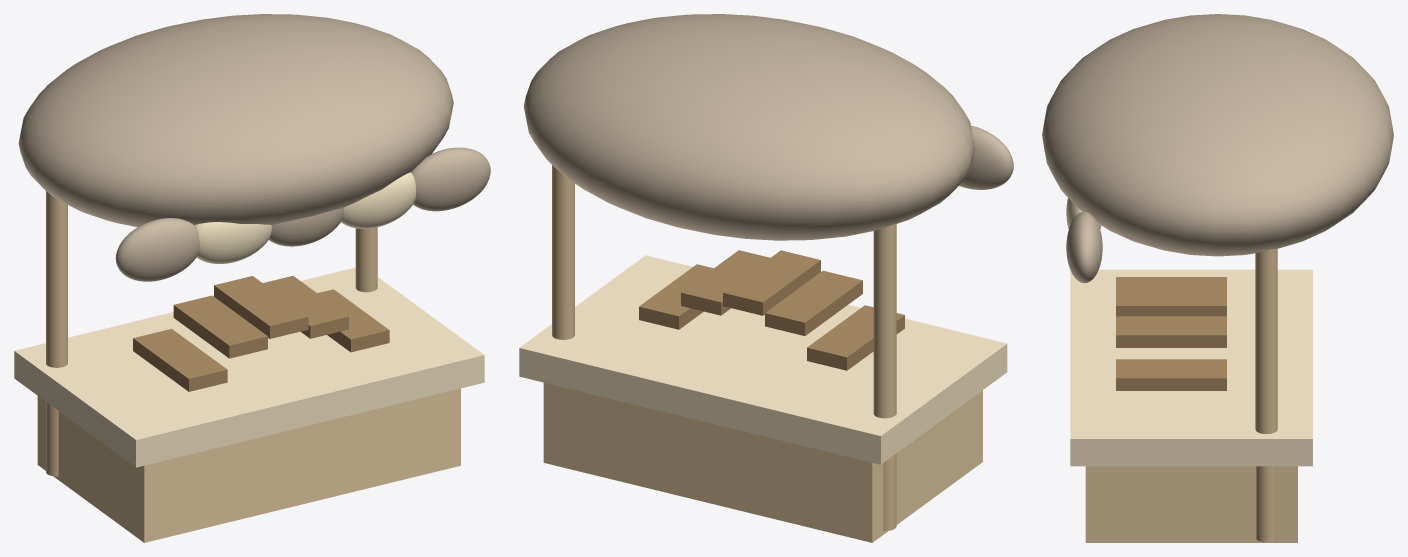
Rendered from fair-bridge-builder.glb.
3 views of the same model, side by side, from view 1: azimuth 30°, elevation 25°; view 2: azimuth 150°, elevation 25°; view 3: azimuth 270°, elevation 25° (orthographic). The views are drawn at different scales.
Visible parts, largest first — view 1: fair-bridge-builder; view 2: fair-bridge-builder; view 3: fair-bridge-builder.
Boxes of the visible parts, x1=… form: fair-bridge-builder: x1=14, y1=14, x2=490, y2=542; fair-bridge-builder: x1=519, y1=14, x2=1013, y2=542; fair-bridge-builder: x1=1042, y1=14, x2=1393, y2=542.
Size of the model in its own units: 2.26 by 2.21 by 1.74.
